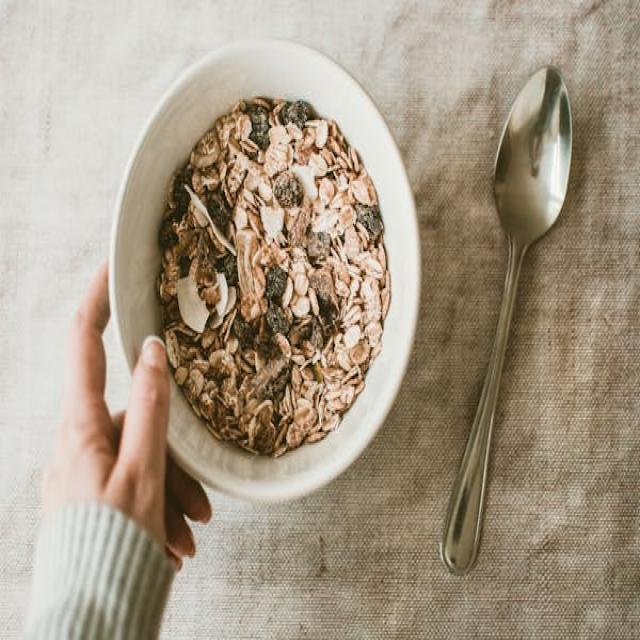spoon: (442, 66, 576, 578)
